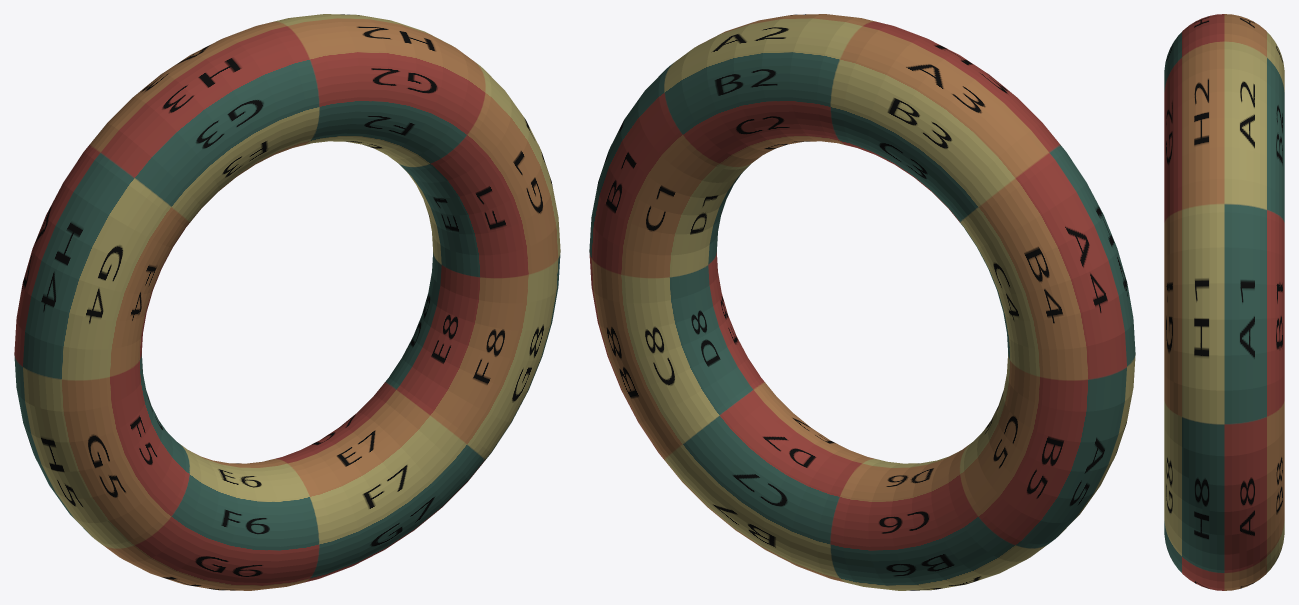
The model's file is texture_torus_R7_r7.glb.
The picture shows the model from 3 angles, left to right: view 1: azimuth 30°, elevation 25°; view 2: azimuth 150°, elevation 25°; view 3: azimuth 270°, elevation 25°; orthographic projection. The views are drawn at different scales.
Visible parts, largest first — view 1: world; view 2: world; view 3: world.
Part boxes in pixels (left/top/right/bottom): world: left=14, top=14, right=560, bottom=590; world: left=589, top=14, right=1135, bottom=590; world: left=1164, top=14, right=1284, bottom=590.
Size of the model in its own units: 18.53 by 18.5 by 3.86.
1 material, 1 textured.
